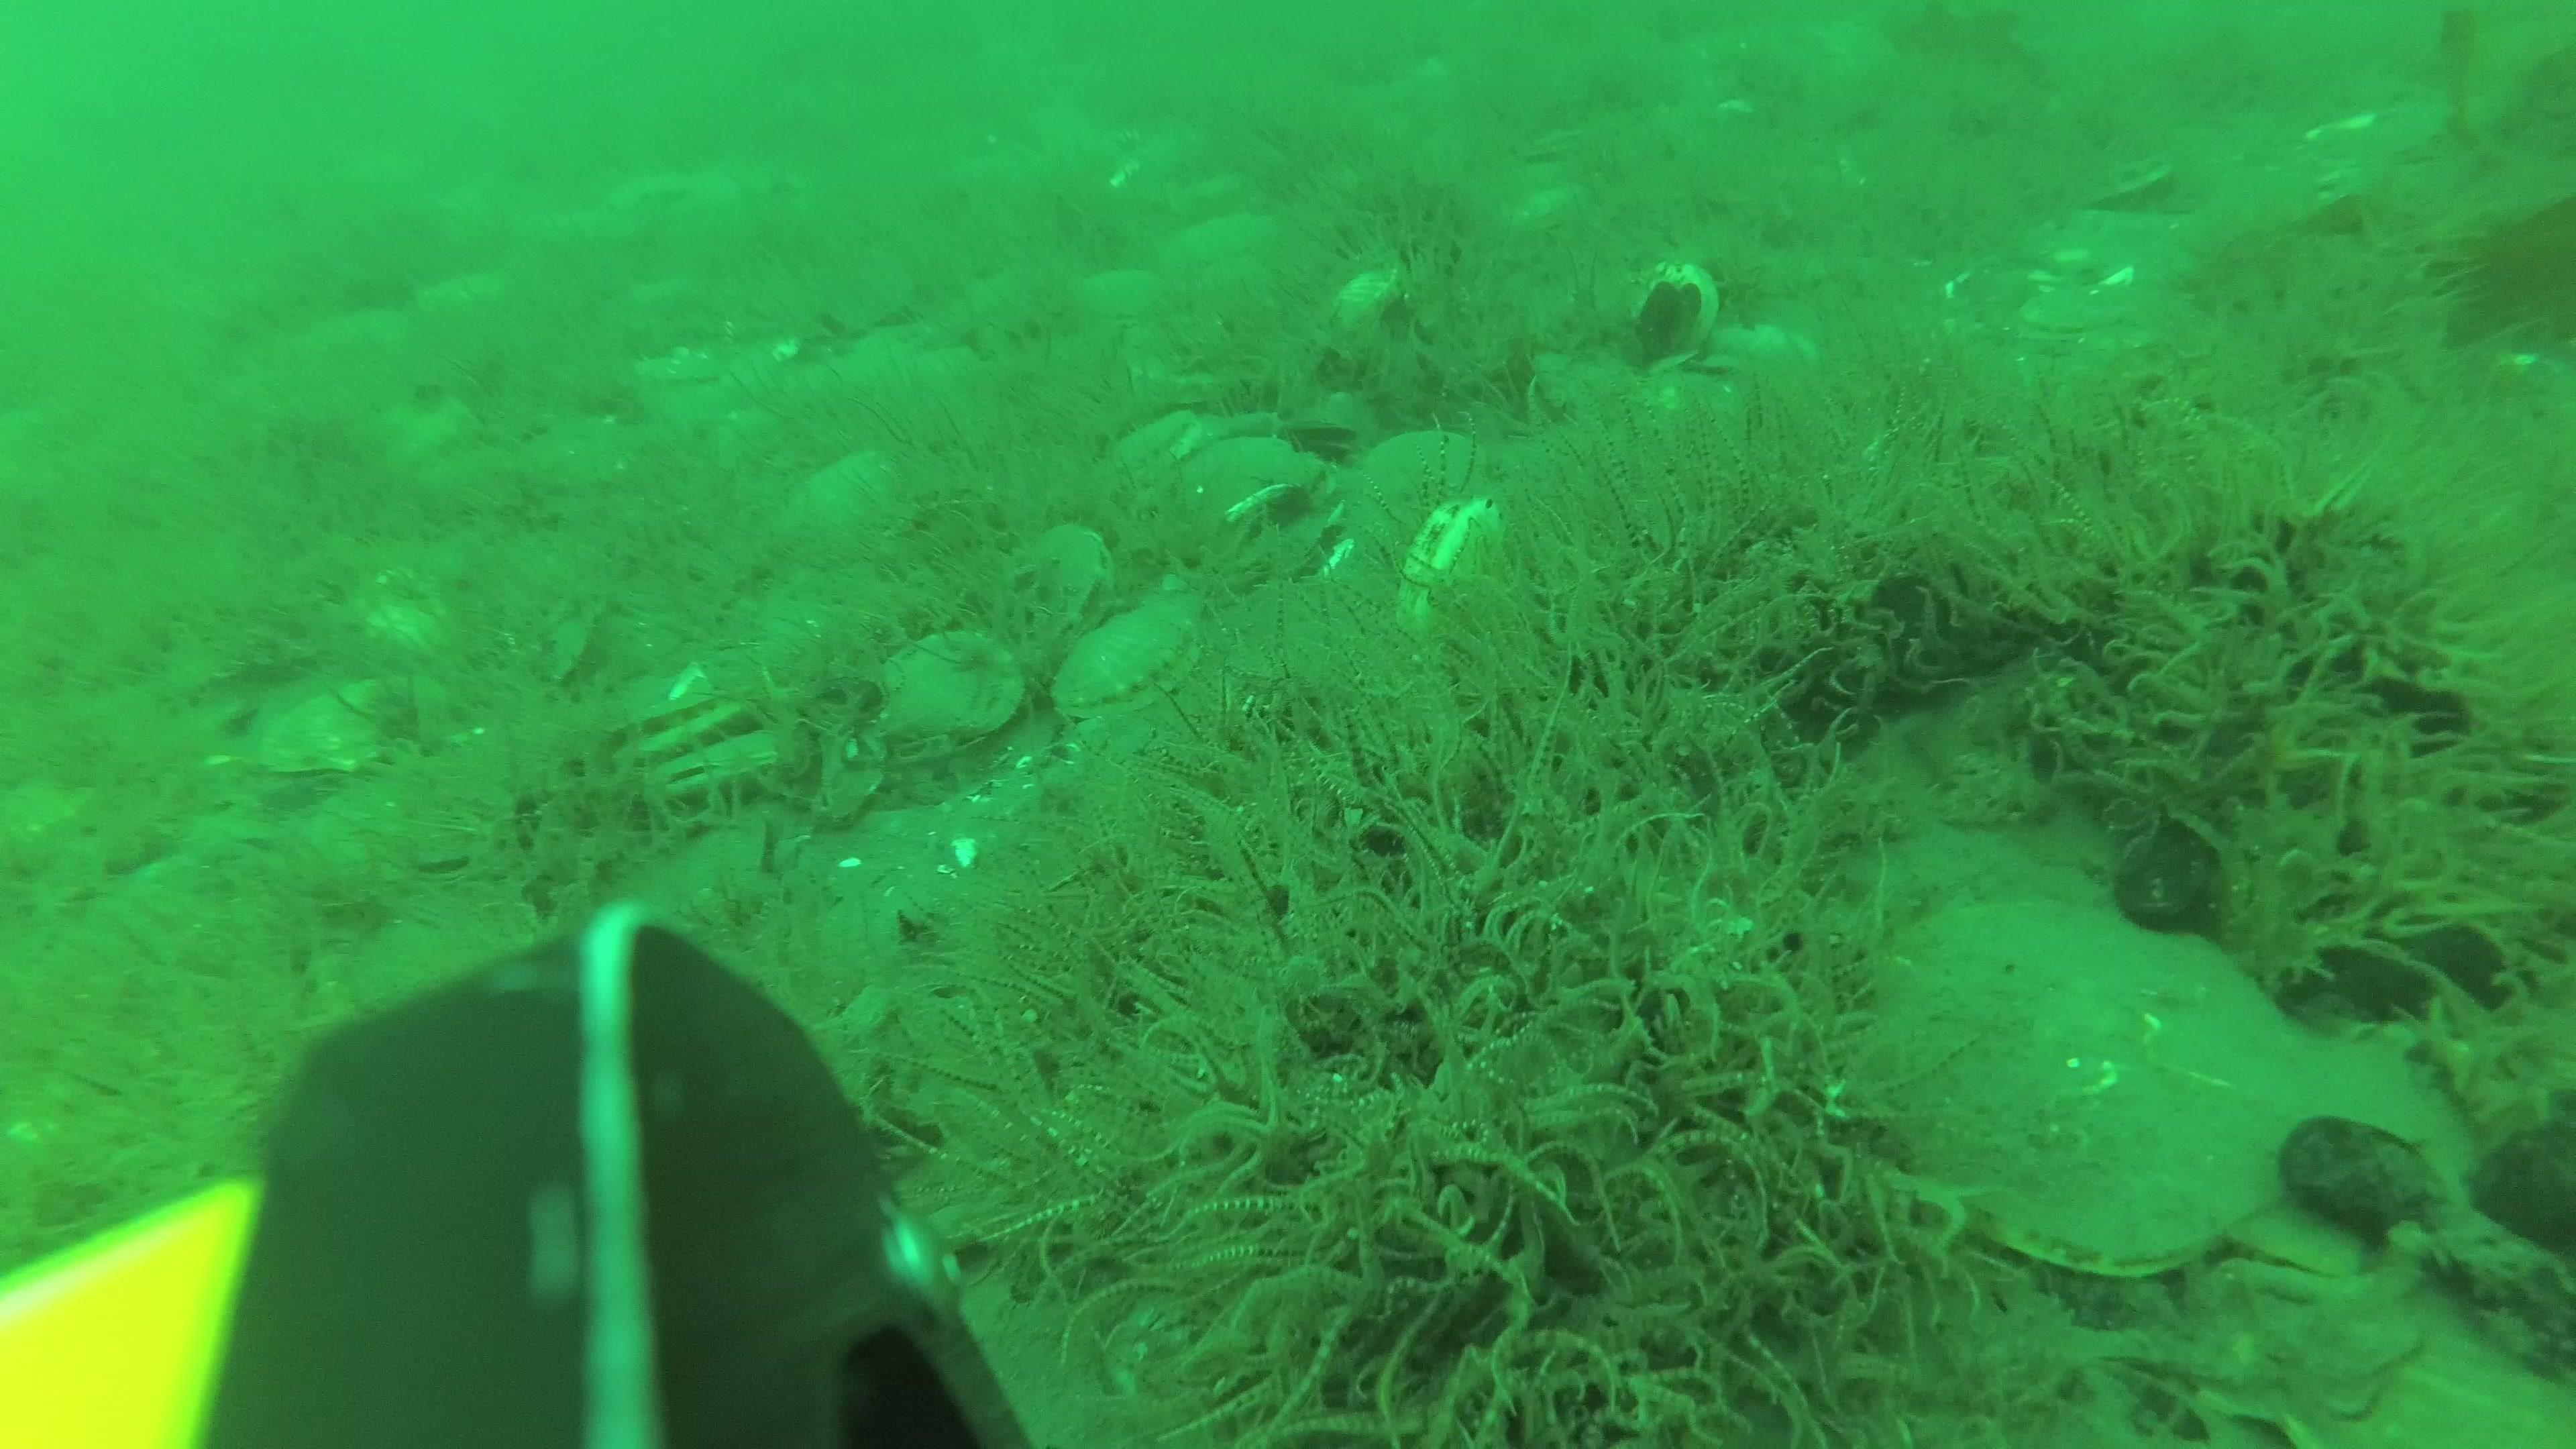scallop: (1879, 883, 2293, 1276), (2220, 1023, 2470, 1276), (2279, 1260, 2576, 1449), (2204, 1200, 2431, 1385), (349, 892, 533, 1024), (1217, 575, 1391, 694), (267, 674, 444, 782), (1164, 444, 1299, 554), (996, 513, 1122, 630), (876, 632, 1012, 738), (1060, 605, 1196, 702), (1357, 428, 1479, 534), (794, 458, 916, 559), (648, 731, 787, 809), (1100, 403, 1210, 502), (607, 692, 741, 770), (1327, 262, 1408, 352), (2017, 287, 2132, 347), (1077, 269, 1164, 334)
